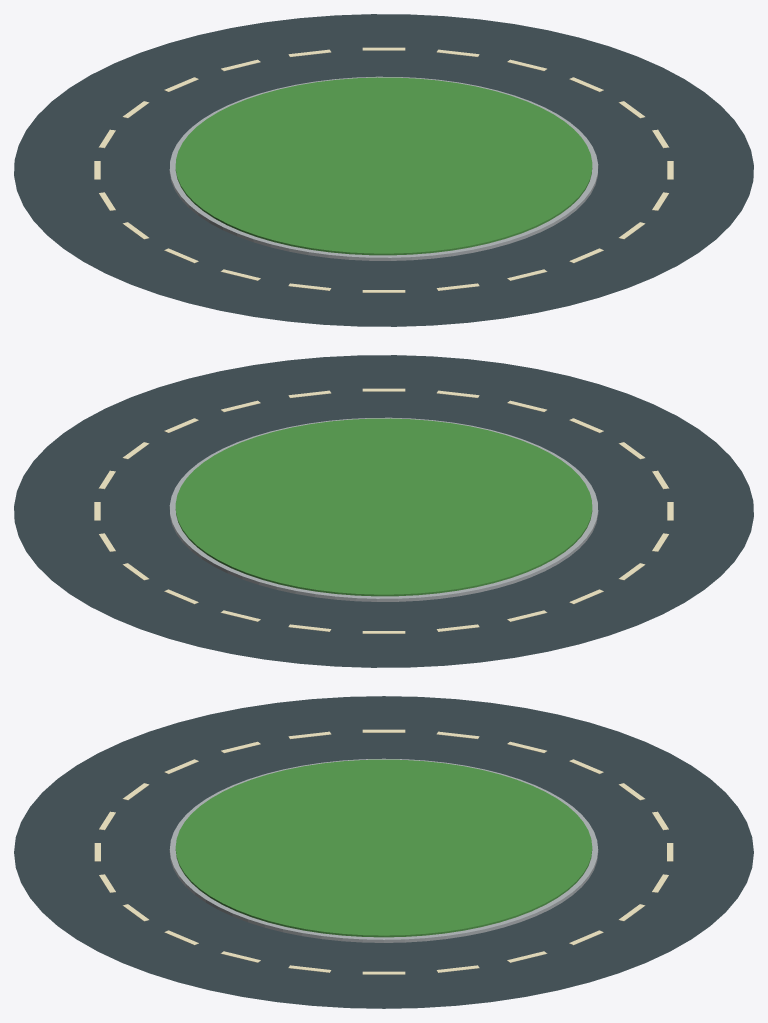
The model's file is roundabout.glb.
3 views of the same model, one above another, from view 1: azimuth 30°, elevation 25°; view 2: azimuth 150°, elevation 25°; view 3: azimuth 270°, elevation 25° (orthographic).
Visible parts, largest first — view 1: roundabout asphalt, roundabout island grass, roundabout curb; view 2: roundabout asphalt, roundabout island grass, roundabout curb; view 3: roundabout asphalt, roundabout island grass, roundabout curb.
Boxes of the visible parts, x1,y1,x2,y2 form: roundabout asphalt: (14, 14, 753, 326); roundabout island grass: (175, 77, 592, 255); roundabout curb: (169, 76, 598, 260); roundabout asphalt: (14, 355, 753, 667); roundabout island grass: (175, 418, 592, 596); roundabout curb: (169, 417, 598, 601); roundabout asphalt: (14, 696, 753, 1008); roundabout island grass: (175, 759, 592, 937); roundabout curb: (169, 758, 598, 942).
Bounding box in the file's own units: 19 × 0.19 × 19.
